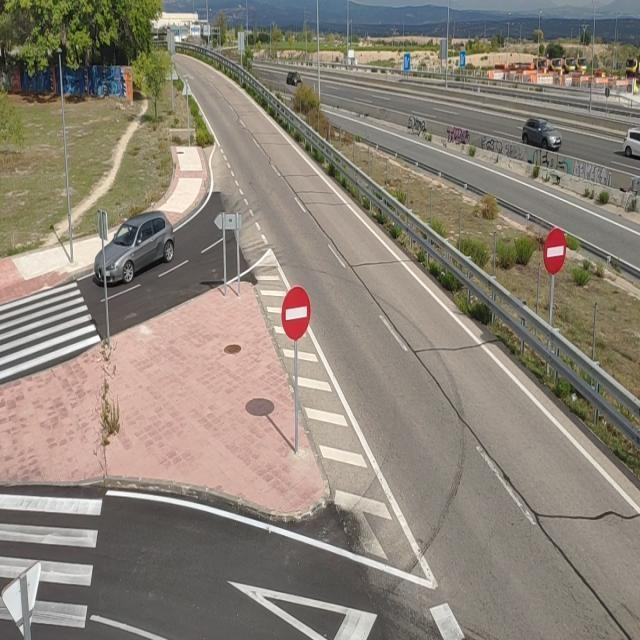Car: (84, 200, 186, 289), (507, 111, 572, 156), (274, 58, 316, 98), (622, 115, 640, 175)
